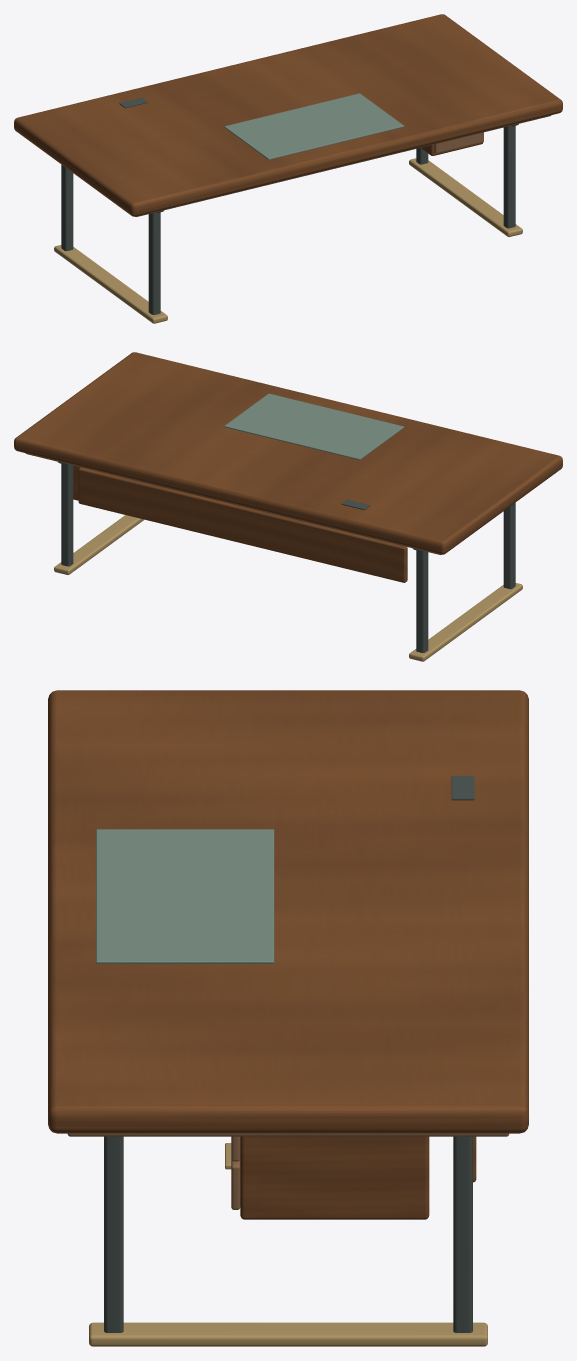
Rendered from hq-workstation-joinery.glb.
3 views of the same model, one above another, from view 1: azimuth 30°, elevation 25°; view 2: azimuth 150°, elevation 25°; view 3: azimuth 270°, elevation 25° (orthographic). The views are drawn at different scales.
Parts seen in each view (by area): view 1: workstation_Warm oak - original grain, workstation_Sage acoustic felt, workstation_Powder coated charcoal, workstation_Satin brass, workstation_Oak end grain; view 2: workstation_Warm oak - original grain, workstation_Sage acoustic felt, workstation_Powder coated charcoal, workstation_Satin brass, workstation_Oak end grain; view 3: workstation_Warm oak - original grain, workstation_Sage acoustic felt, workstation_Satin brass, workstation_Powder coated charcoal, workstation_Oak end grain.
Boxes of the visible parts, bbox=[...] form: workstation_Warm oak - original grain: bbox=[14, 14, 562, 216]; workstation_Sage acoustic felt: bbox=[224, 93, 404, 159]; workstation_Powder coated charcoal: bbox=[61, 97, 518, 314]; workstation_Satin brass: bbox=[54, 158, 522, 323]; workstation_Oak end grain: bbox=[135, 115, 550, 216]; workstation_Warm oak - original grain: bbox=[14, 352, 562, 582]; workstation_Sage acoustic felt: bbox=[224, 393, 404, 460]; workstation_Powder coated charcoal: bbox=[58, 462, 515, 652]; workstation_Satin brass: bbox=[54, 515, 522, 661]; workstation_Oak end grain: bbox=[26, 453, 441, 554]; workstation_Warm oak - original grain: bbox=[48, 690, 528, 1219]; workstation_Sage acoustic felt: bbox=[96, 829, 274, 963]; workstation_Satin brass: bbox=[89, 1143, 487, 1346]; workstation_Powder coated charcoal: bbox=[104, 776, 474, 1332]; workstation_Oak end grain: bbox=[67, 1133, 509, 1209].
Bounding box in the file's own units: 2.8 × 0.842 × 1.35.
Materials: 5 (1 with a texture image).
